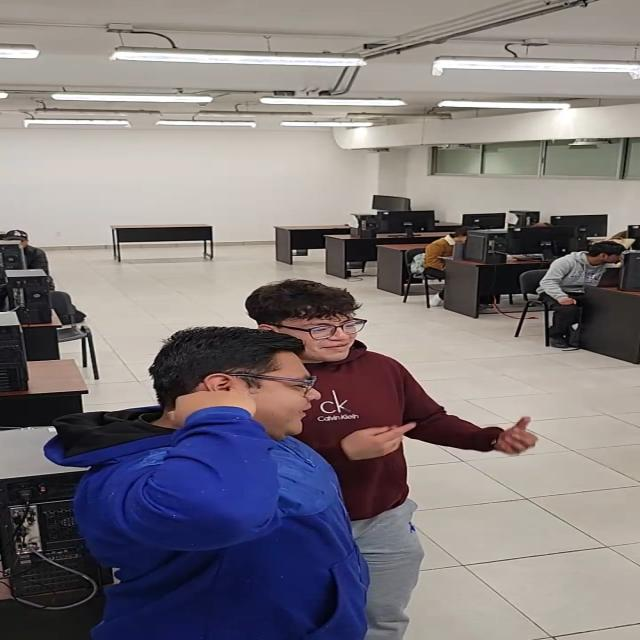Persona: (242, 285, 544, 554), (102, 325, 342, 639)
